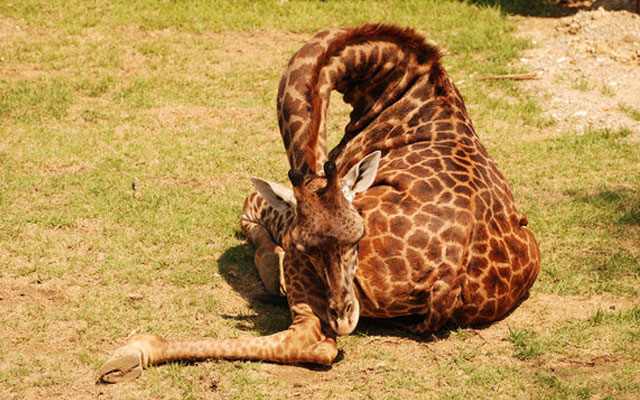Jirafa: (231, 34, 511, 351)
